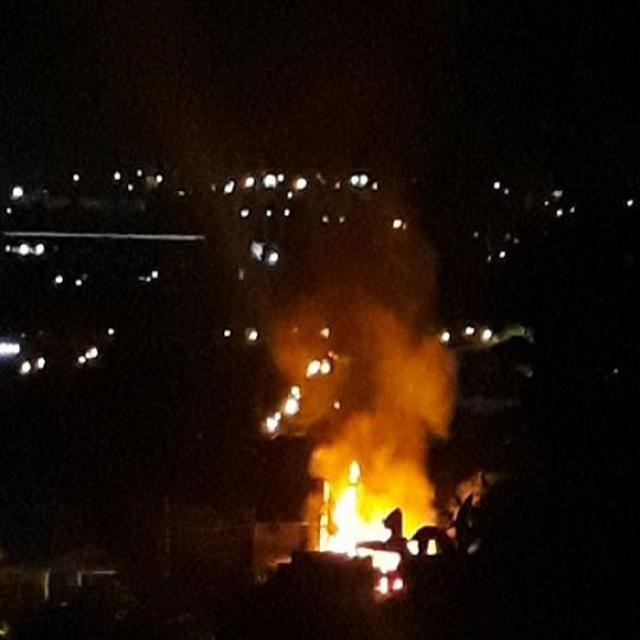Fire: (320, 464, 440, 560)
Smoke: (262, 234, 447, 468)
